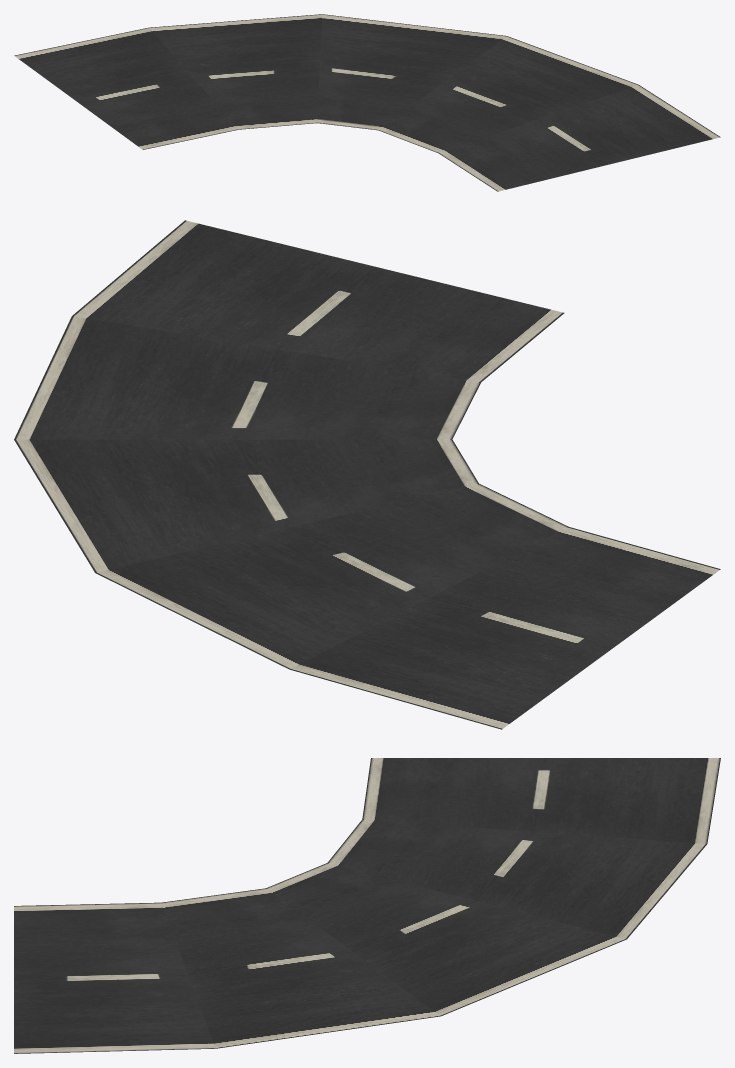
File: RCurve.glb
The picture shows the model from 3 angles, top to bottom: view 1: azimuth 30°, elevation 25°; view 2: azimuth 150°, elevation 25°; view 3: azimuth 270°, elevation 25°; orthographic projection. The views are drawn at different scales.
Visible parts, largest first — view 1: Plane; view 2: Plane; view 3: Plane.
Part boxes in pixels (x1,y1,x2,y2): Plane: [14, 14, 720, 191]; Plane: [14, 220, 720, 729]; Plane: [14, 758, 720, 1053].
Bounding box in the file's own units: 4 × 5.96e-08 × 4.04.
Materials: 1 (1 with a texture image).
